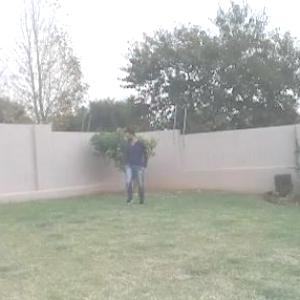follow: (123, 122, 148, 206)
